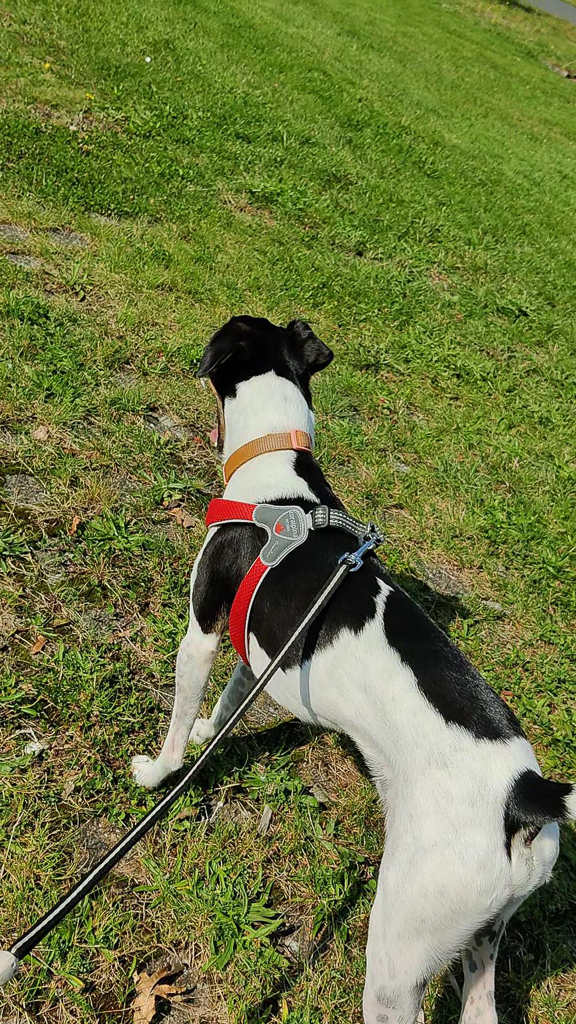Dog: (110, 286, 576, 1024)
